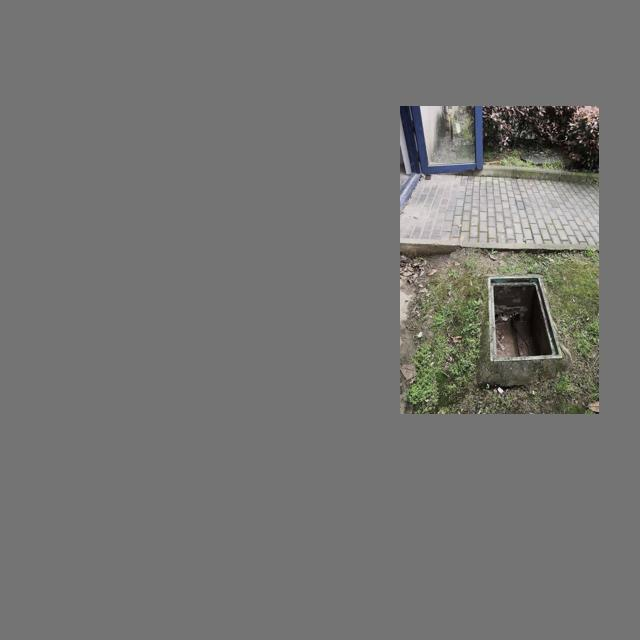lose: (487, 274, 562, 363)
